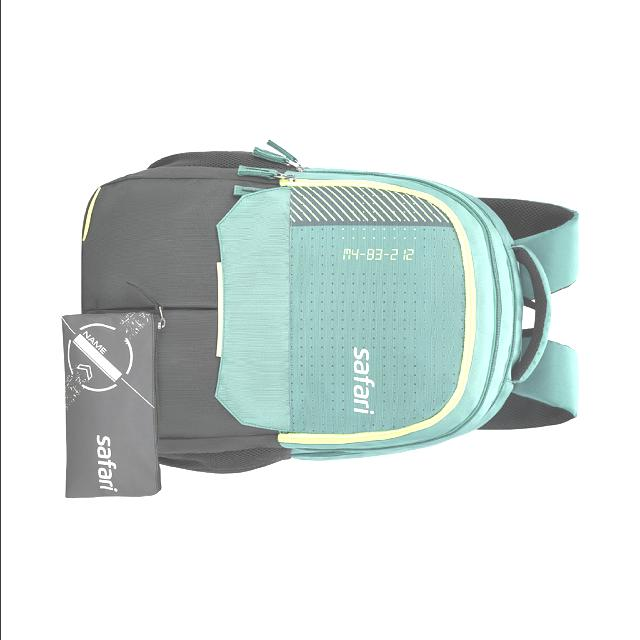backpack: (81, 142, 582, 476)
